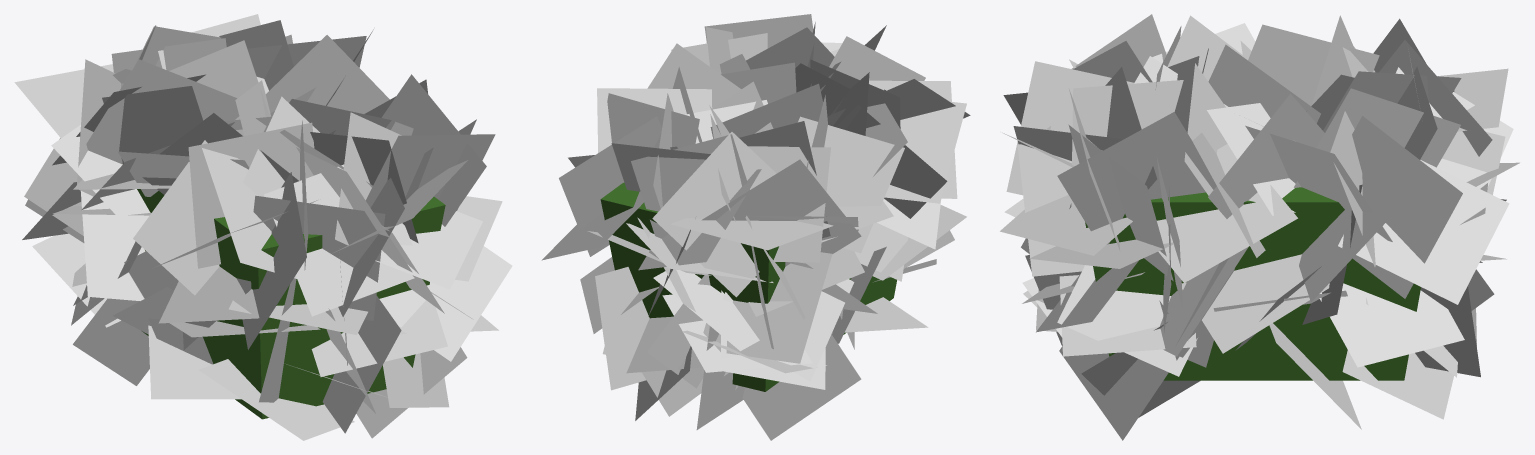
Rendered from Bush01_Mesh 1.fbx.
3 views of the same model, side by side, from view 1: azimuth 30°, elevation 25°; view 2: azimuth 150°, elevation 25°; view 3: azimuth 270°, elevation 25° (orthographic). The views are drawn at different scales.
Parts seen in each view (by area): view 1: Bush01_Mesh; view 2: Bush01_Mesh; view 3: Bush01_Mesh.
Boxes of the visible parts, bbox=[...] form: Bush01_Mesh: bbox=[14, 14, 512, 440]; Bush01_Mesh: bbox=[541, 14, 970, 440]; Bush01_Mesh: bbox=[1000, 14, 1519, 440].
Size of the model in its own units: 4.6 by 4.53 by 6.02.
